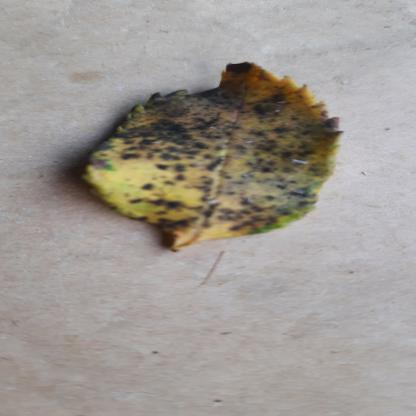black-spot: (75, 61, 347, 250)
